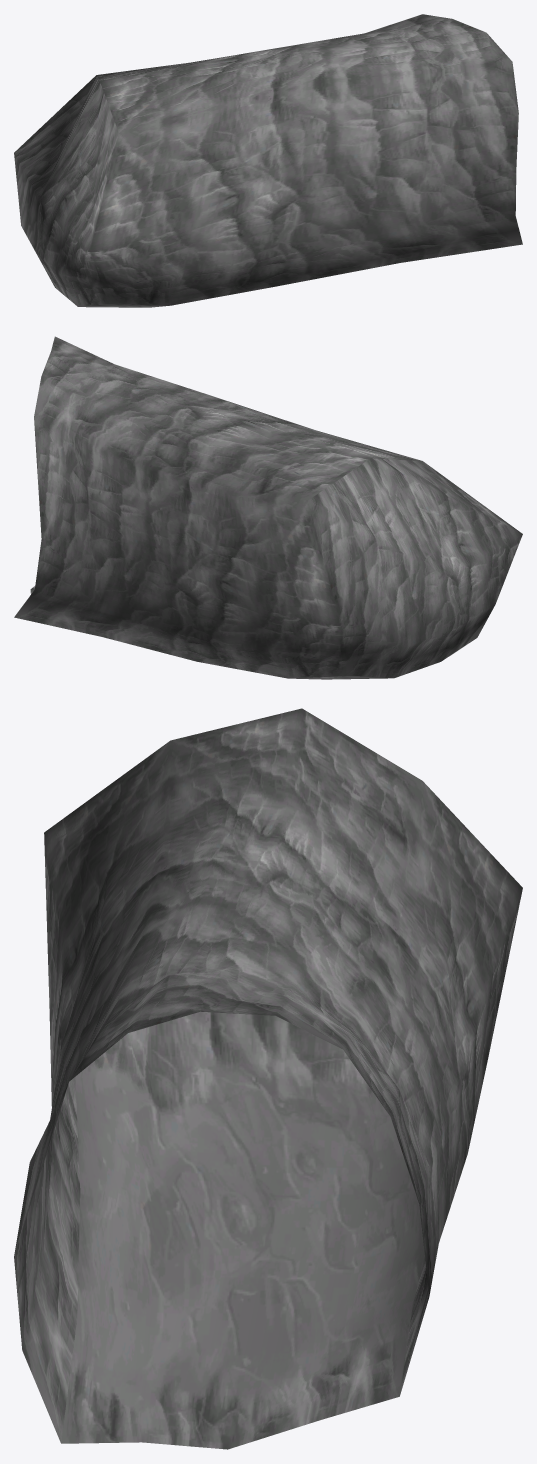
File: SWORDLIGHT20_PS-AREA03_14.fbx
The picture shows the model from 3 angles, top to bottom: view 1: azimuth 30°, elevation 25°; view 2: azimuth 150°, elevation 25°; view 3: azimuth 270°, elevation 25°; orthographic projection. The views are drawn at different scales.
Visible parts, largest first — view 1: SWORDLIGHT20_PS-AREA03_14; view 2: SWORDLIGHT20_PS-AREA03_14; view 3: SWORDLIGHT20_PS-AREA03_14.
Boxes of the visible parts, x1,y1,x2,y2 form: SWORDLIGHT20_PS-AREA03_14: (14,14,522,307); SWORDLIGHT20_PS-AREA03_14: (14,336,522,679); SWORDLIGHT20_PS-AREA03_14: (14,708,522,1449).
Size of the model in its own units: 102577 by 49341 by 53377.
Materials: 2 (2 with a texture image).
